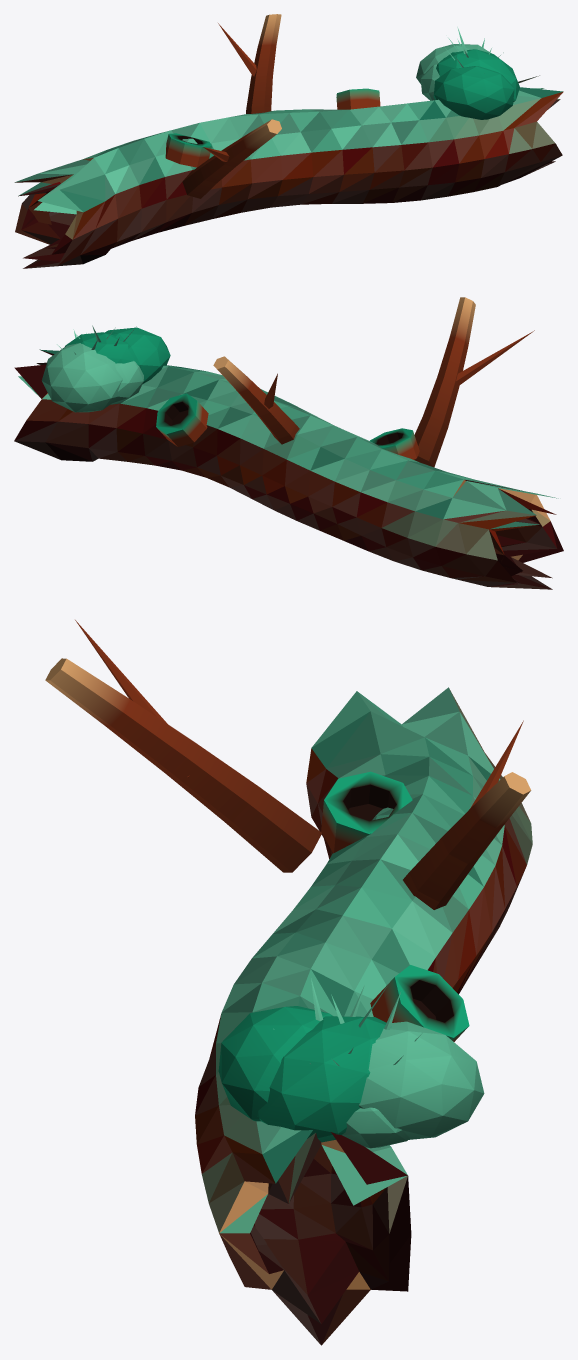
Rendered from pohon_tumbang_hollow_redwood_521570.glb.
The picture shows the model from 3 angles, top to bottom: view 1: azimuth 30°, elevation 25°; view 2: azimuth 150°, elevation 25°; view 3: azimuth 270°, elevation 25°; orthographic projection. The views are drawn at different scales.
Parts seen in each view (by area): view 1: Batang_Pohon_Berlubang; view 2: Batang_Pohon_Berlubang; view 3: Batang_Pohon_Berlubang.
Boxes of the visible parts, <box> form: Batang_Pohon_Berlubang: <box>14,14,563,268</box>; Batang_Pohon_Berlubang: <box>14,297,563,589</box>; Batang_Pohon_Berlubang: <box>45,620,532,1345</box>.
Size of the model in its own units: 5.56 by 1.8 by 2.29.
